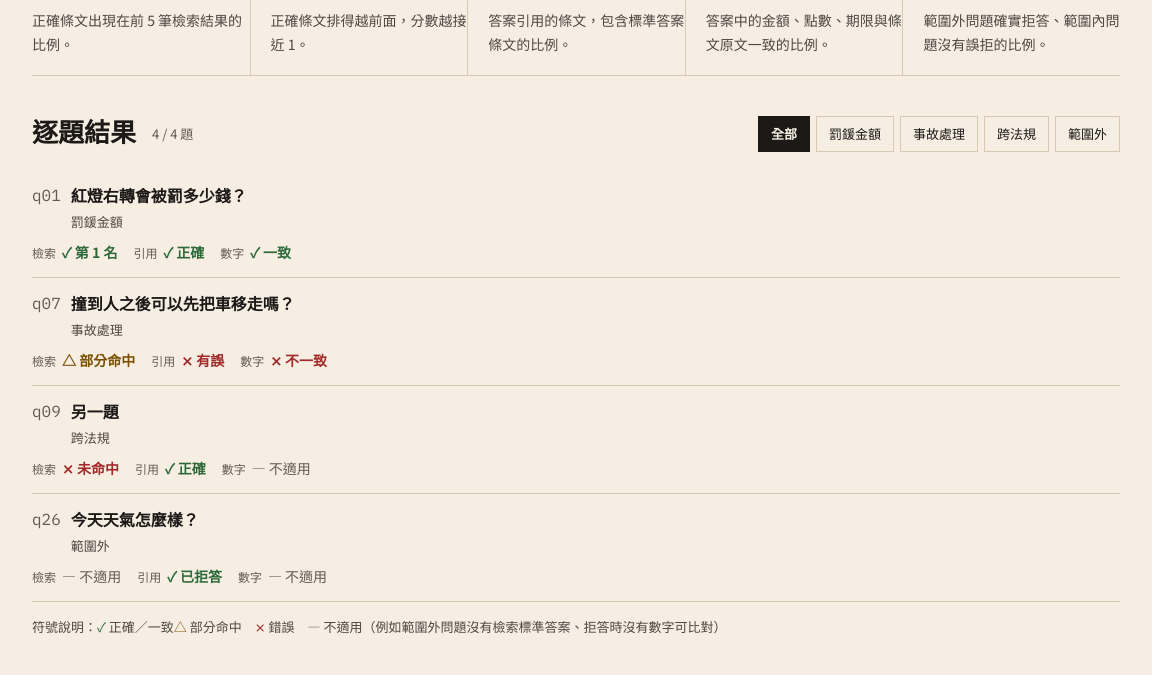
Test: 評估頁 › uses cards on mobile and still expands a question
The width and height of the screenshot is (1152, 675).
(page scrolled)
Click the button "q07 撞到人之後可以先把車移走嗎？ 事故處理" at (183, 303), box 32,290 -> 1120,341
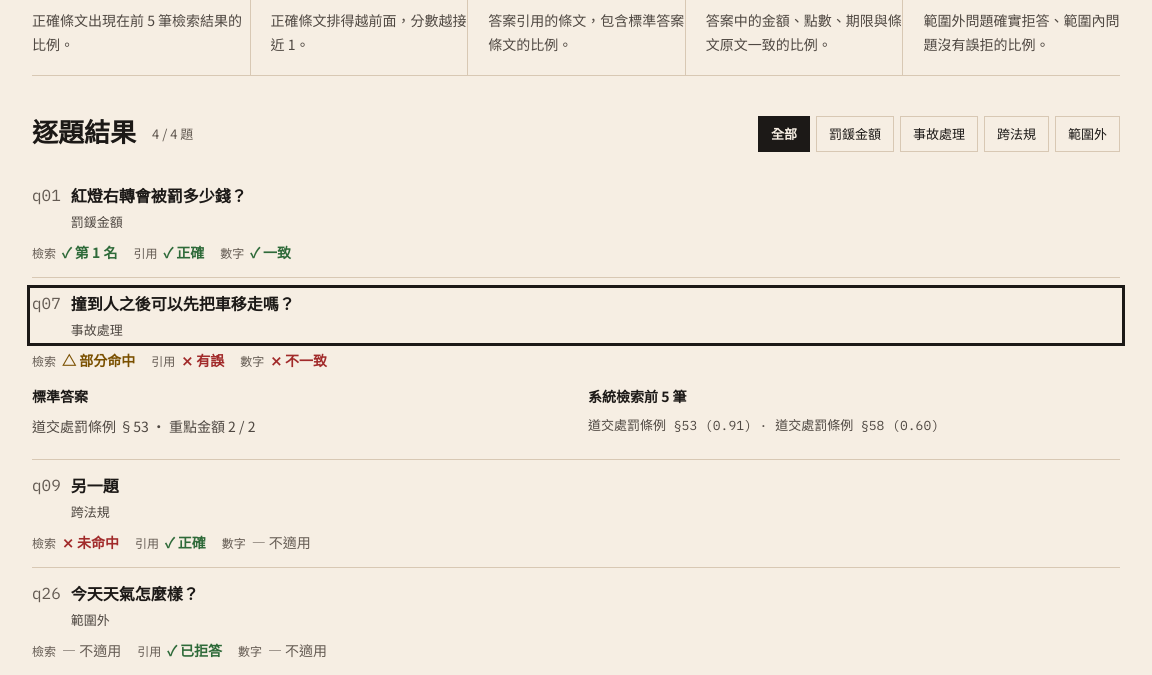
Now the text "系統檢索前 5 筆" is shown, box 588,386 -> 687,406
